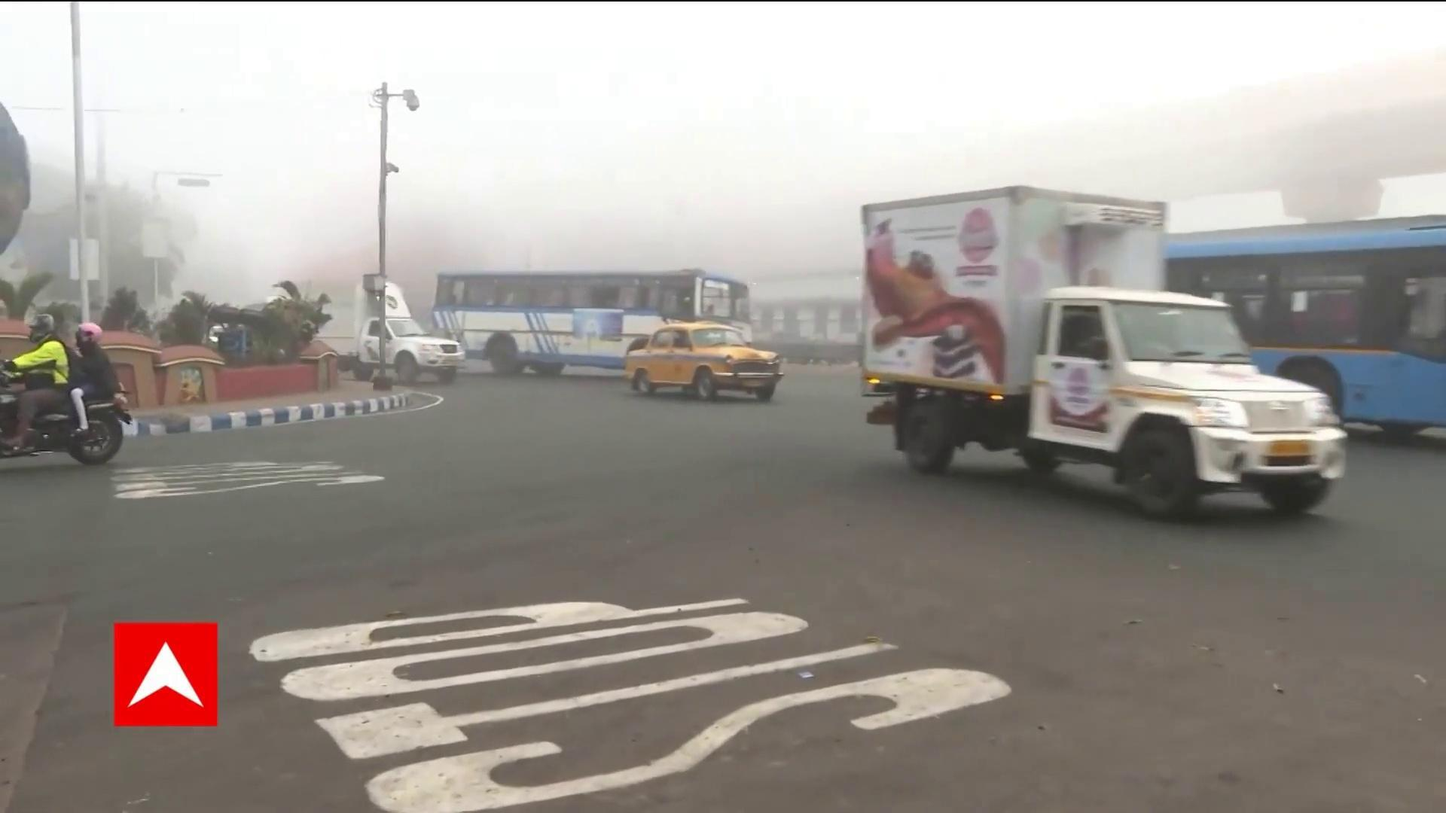Bike: (4, 311, 134, 472)
Bus: (429, 264, 743, 381)
Car: (623, 318, 781, 408)
Truck: (851, 187, 1344, 521), (303, 264, 459, 384)
